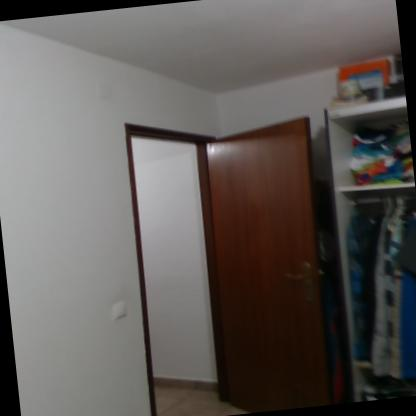open: (105, 92, 357, 415)
